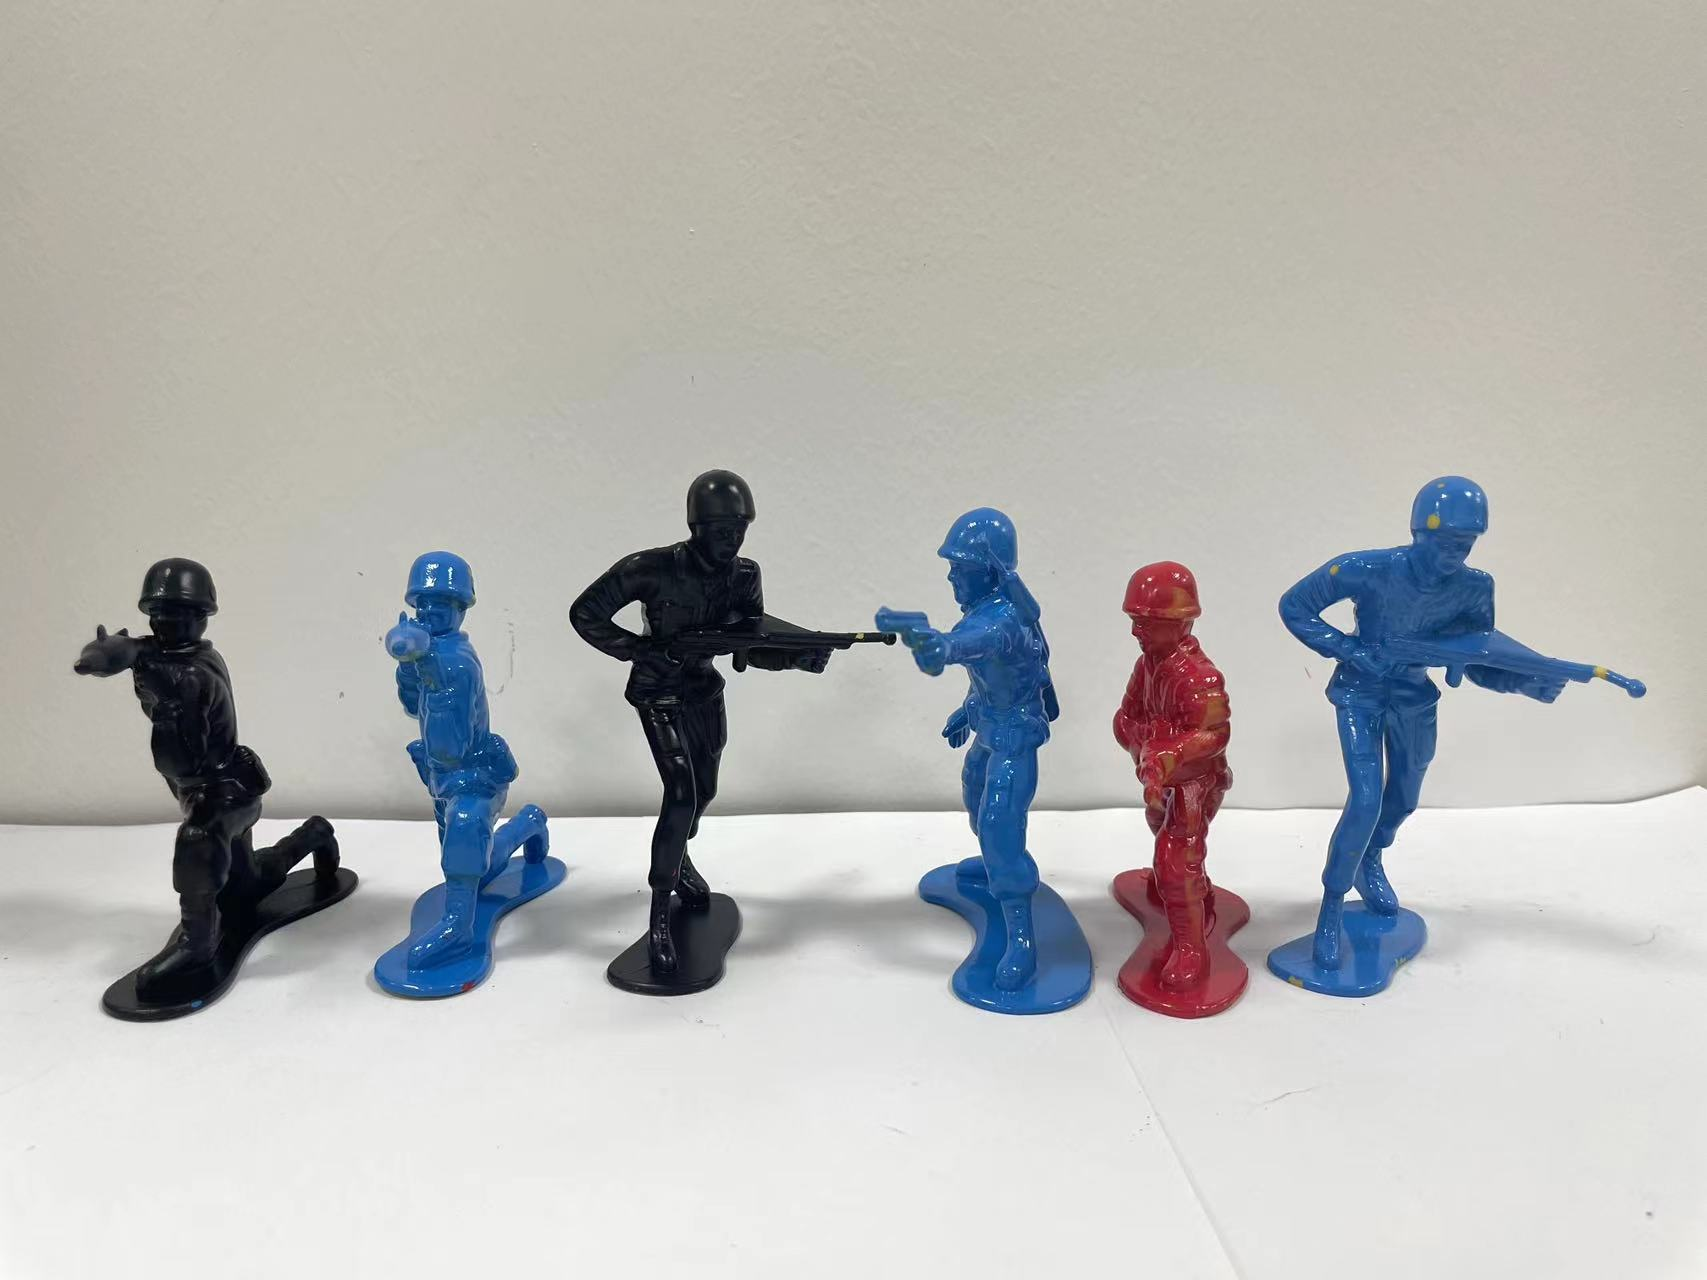black: (571, 469, 866, 1047), (70, 519, 352, 1055)
blue: (1259, 376, 1683, 1092), (872, 464, 1097, 1031), (343, 524, 577, 1021)
red: (1086, 524, 1272, 1043)
